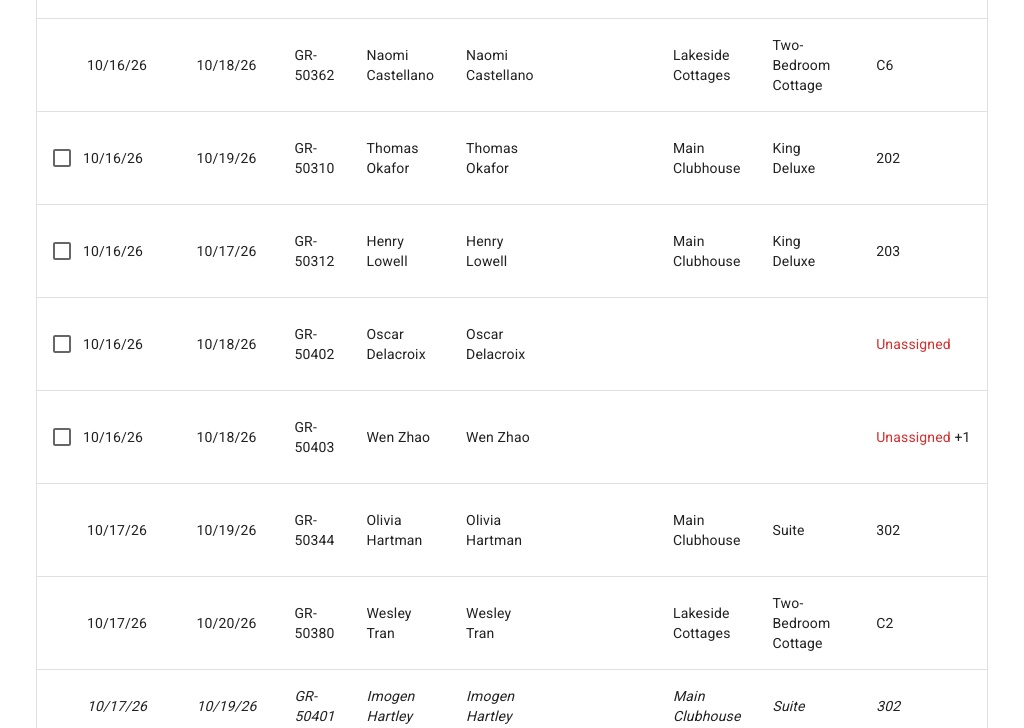
it: bulk check-in › checks in each room on its own and lists successes and failures with reasons
(page scrolled)
Click the checkbox named "Select reservation GR-50402". click: (62, 344)
box: [50, 332, 74, 356]
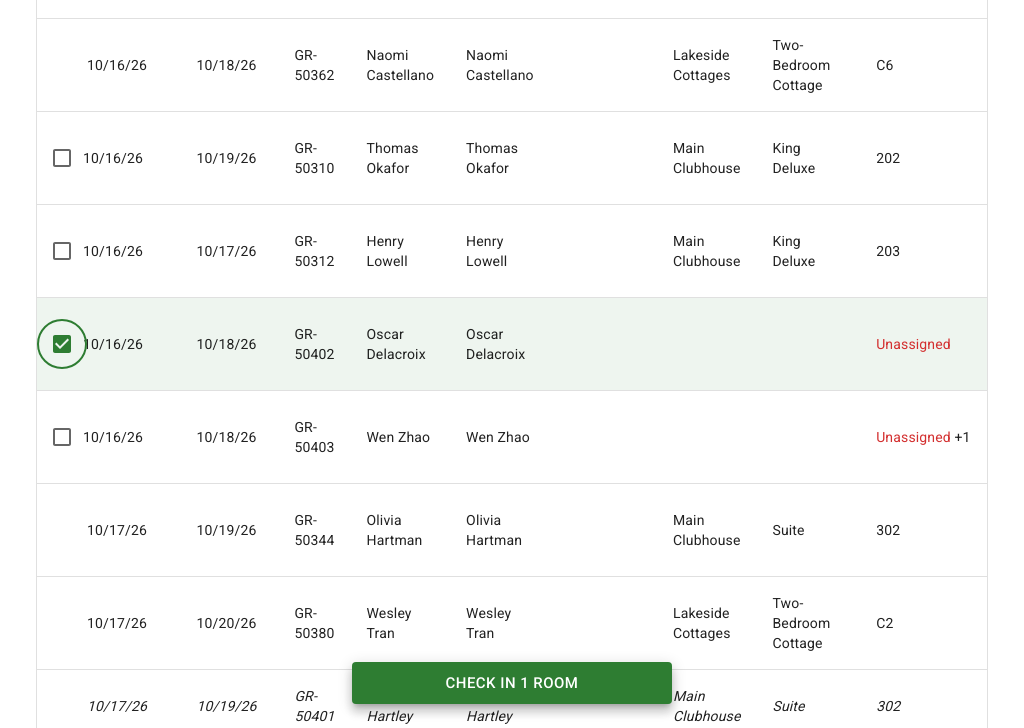
Click the checkbox named "Select reservation GR-50403". click: (62, 437)
box: [50, 425, 74, 449]
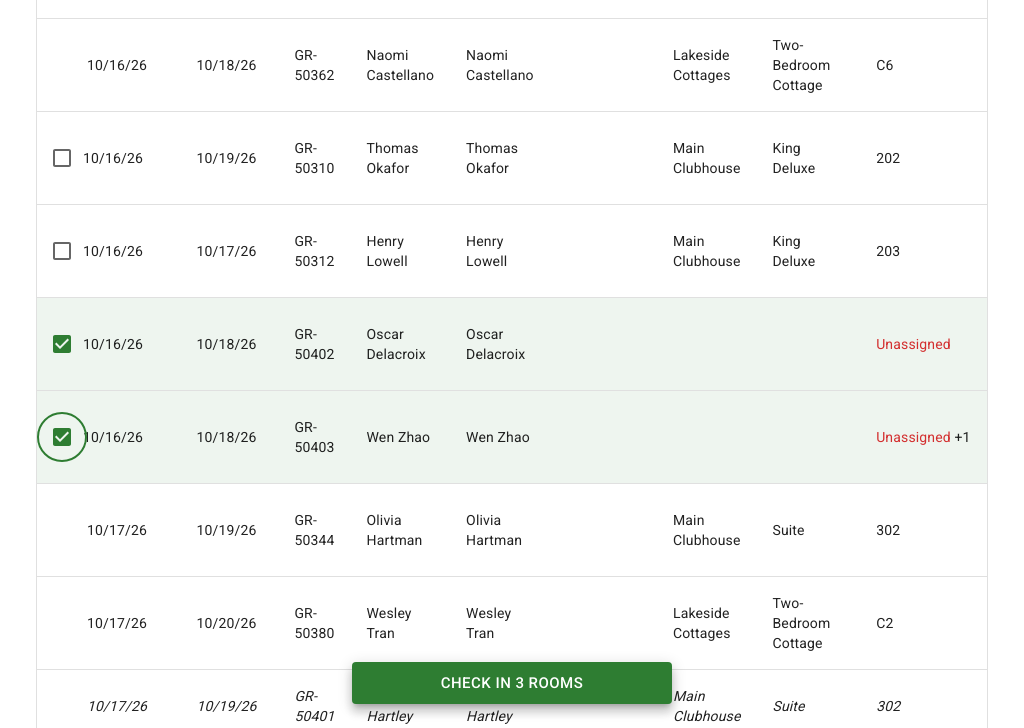
Click the button "CHECK IN 3 ROOMS". click: (512, 683)
box: [352, 662, 672, 704]
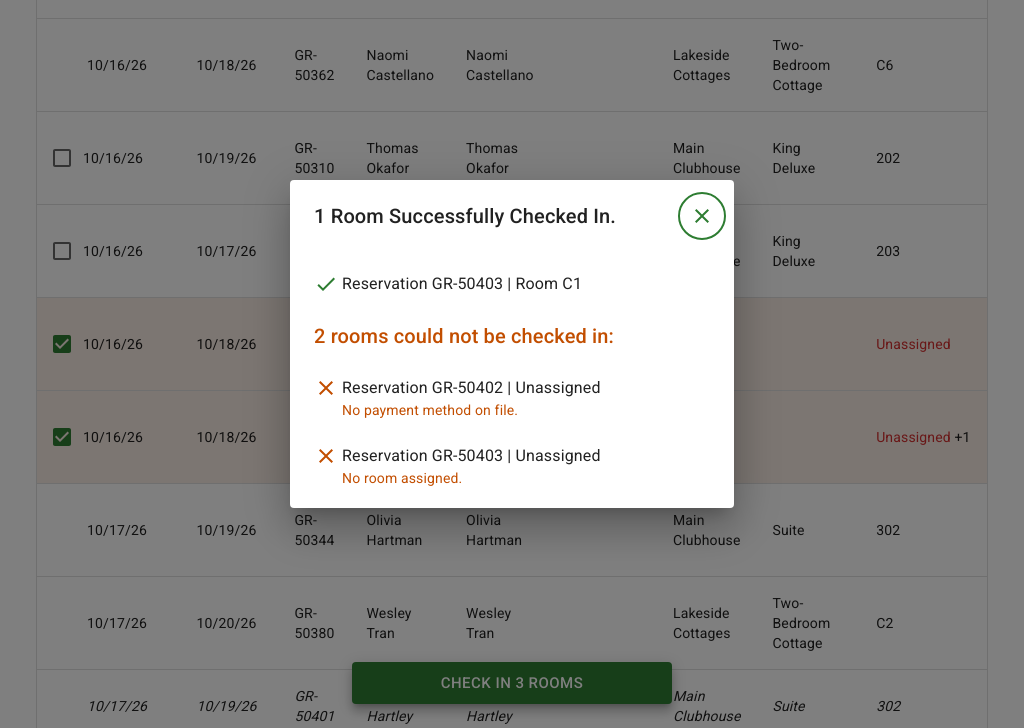
Now the heading "1 Room Successfully Checked In." is shown, box [314, 196, 722, 236]
Now the heading "2 rooms could not be checked in:" is shown, box [314, 324, 614, 348]
Now the text "No payment method on file." is shown, box [342, 402, 518, 418]
Press Escape
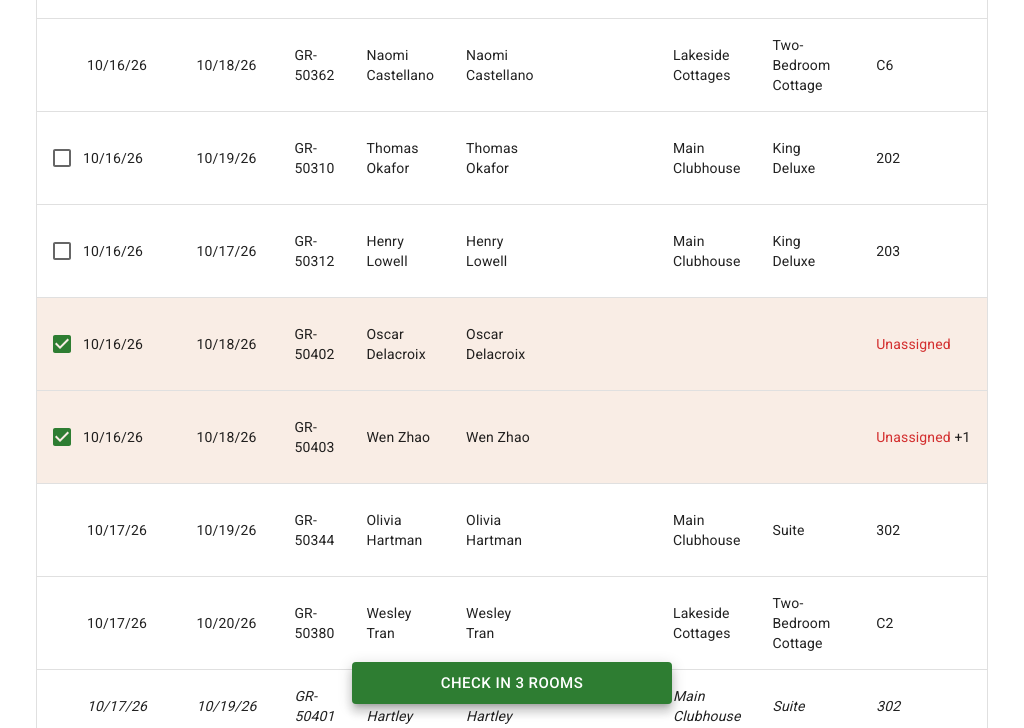
Now the dialog is gone
